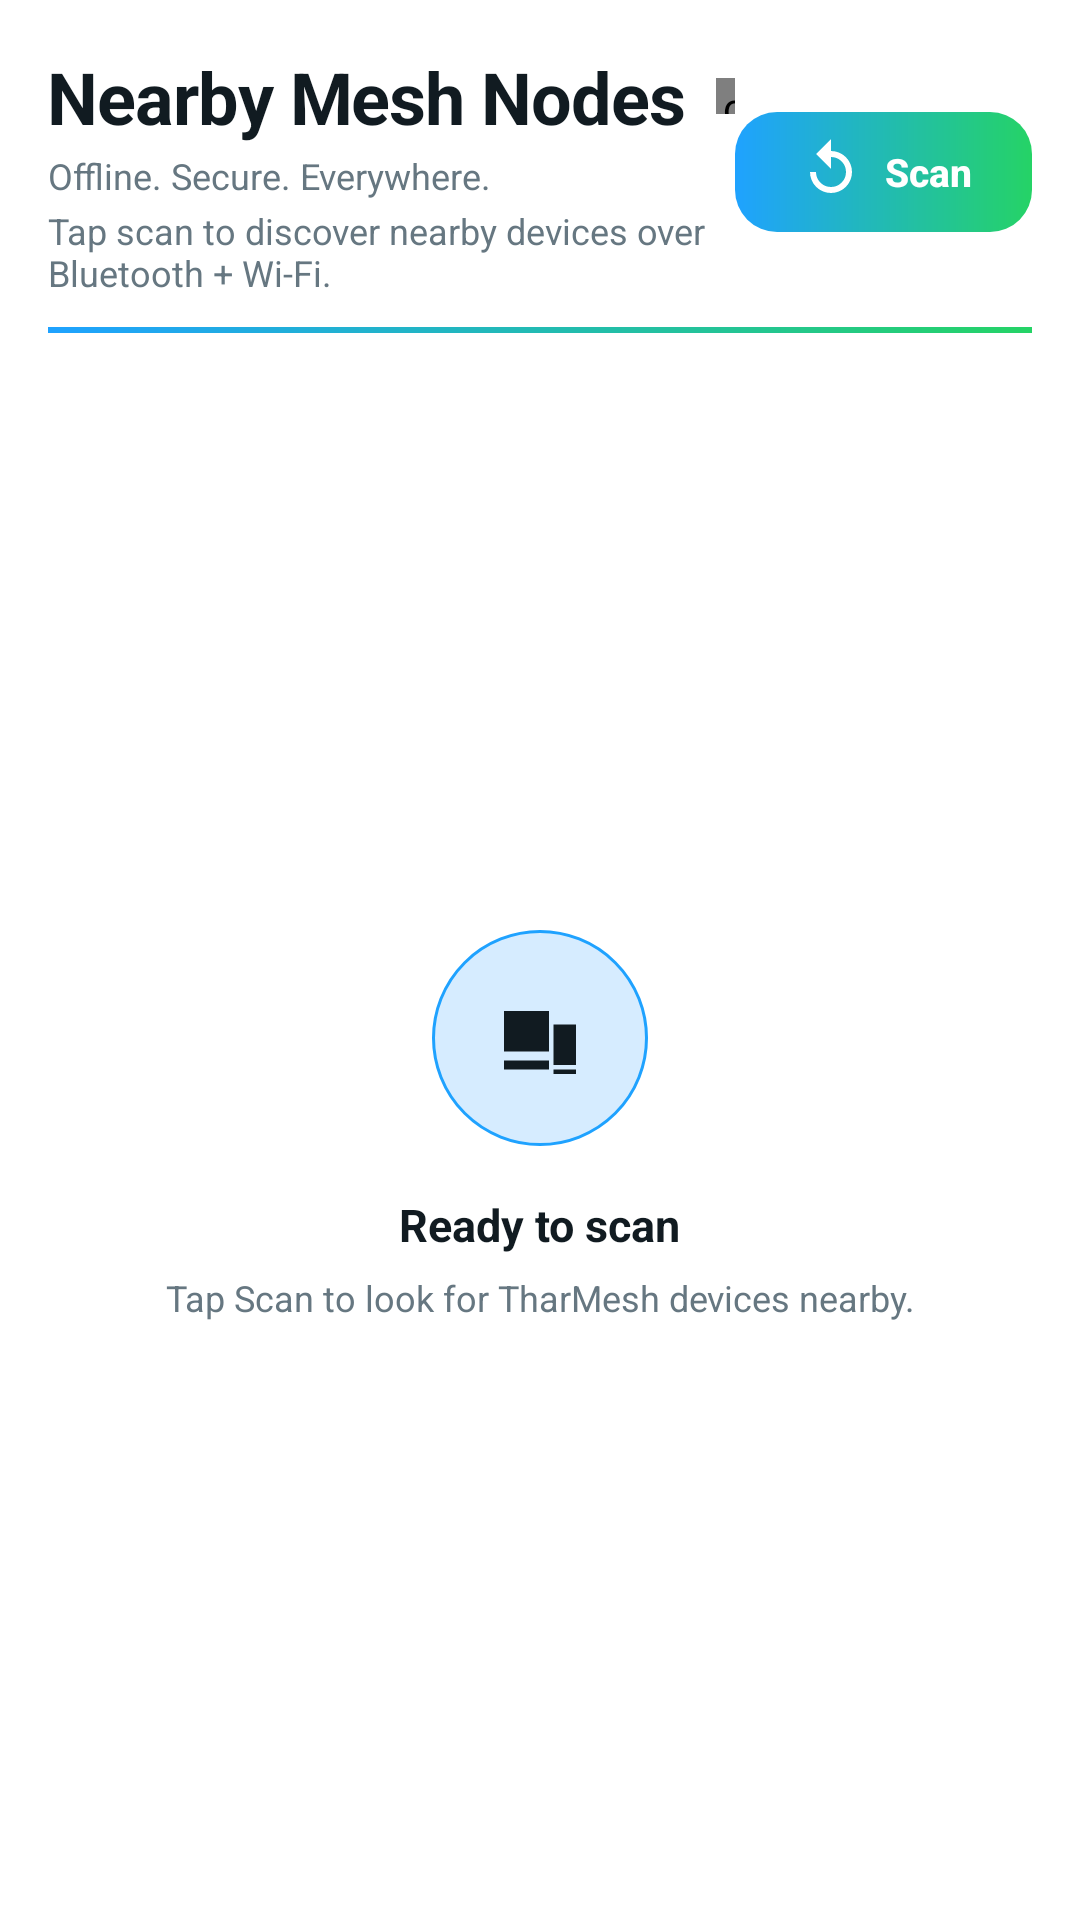

Named icons in this screenshot (1080x1920) and their bounding boxes, (x1, y1, x2, y2):
devices: (504, 1011, 576, 1074)
